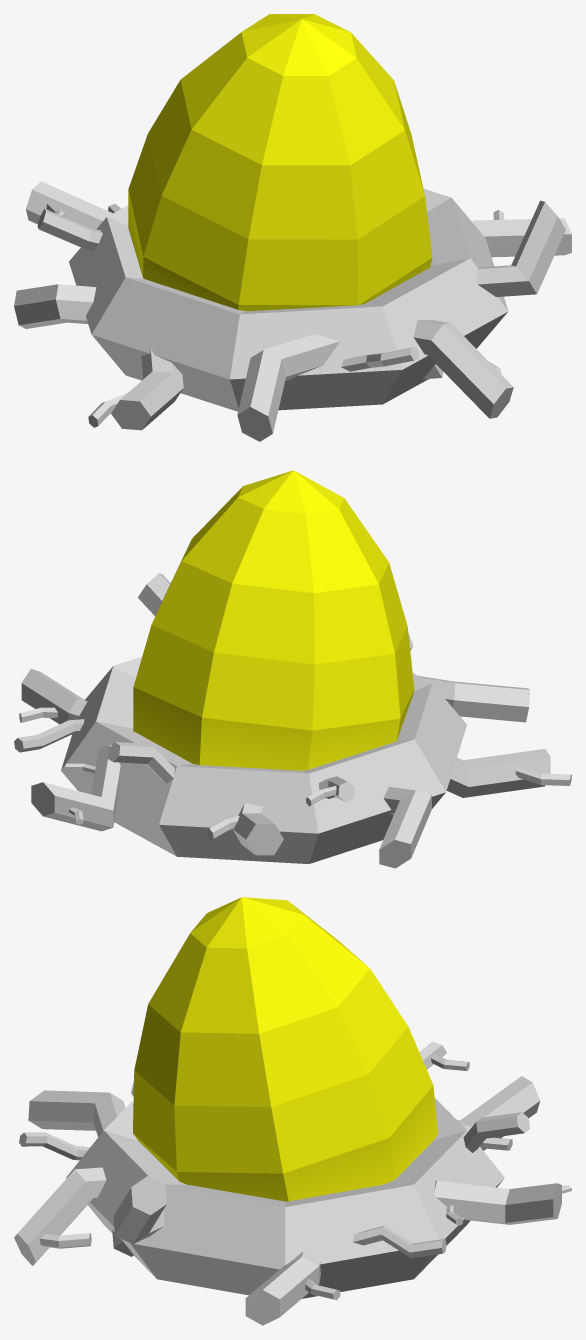
The model's file is Idole_Simple.FBX.
3 renders of one model, top to bottom at view 1: azimuth 30°, elevation 25°; view 2: azimuth 150°, elevation 25°; view 3: azimuth 270°, elevation 25°, orthographic. The views are drawn at different scales.
Parts seen in each view (by area): view 1: Cylinder364, Torus030, Cylinder368, Cylinder369, Cylinder361, Cylinder352, Cylinder357, Cylinder365, Cylinder370, Cylinder356, Cylinder358; view 2: Cylinder364, Torus030, Cylinder354, Cylinder352, Cylinder368, Cylinder357, Cylinder370, Cylinder365, Cylinder351, Cylinder360, Cylinder361, Cylinder362 (+1 smaller); view 3: Cylinder364, Torus030, Cylinder354, Cylinder369, Cylinder368, Cylinder370, Cylinder361, Cylinder365, Cylinder351, Cylinder360, Cylinder358, Cylinder366.
Part boxes in pixels (x1=…): Cylinder364: x1=128, y1=14, x2=432, y2=311; Torus030: x1=69, y1=189, x2=508, y2=411; Cylinder368: x1=237, y1=334, x2=339, y2=441; Cylinder369: x1=413, y1=320, x2=513, y2=418; Cylinder361: x1=423, y1=200, x2=565, y2=379; Cylinder352: x1=111, y1=349, x2=183, y2=430; Cylinder357: x1=14, y1=284, x2=96, y2=328; Cylinder365: x1=26, y1=181, x2=112, y2=229; Cylinder370: x1=471, y1=218, x2=571, y2=257; Cylinder356: x1=37, y1=209, x2=102, y2=250; Cylinder358: x1=341, y1=347, x2=419, y2=371; Cylinder364: x1=133, y1=470, x2=414, y2=770; Torus030: x1=61, y1=656, x2=466, y2=863; Cylinder354: x1=31, y1=745, x2=120, y2=831; Cylinder352: x1=446, y1=749, x2=550, y2=797; Cylinder368: x1=419, y1=676, x2=530, y2=722; Cylinder357: x1=379, y1=786, x2=431, y2=868; Cylinder370: x1=21, y1=669, x2=87, y2=724; Cylinder365: x1=232, y1=803, x2=283, y2=855; Cylinder351: x1=107, y1=742, x2=174, y2=783; Cylinder360: x1=14, y1=719, x2=84, y2=752; Cylinder361: x1=138, y1=573, x2=170, y2=615; Cylinder362: x1=515, y1=765, x2=571, y2=785; Cylinder364: x1=133, y1=897, x2=437, y2=1201; Torus030: x1=66, y1=1097, x2=504, y2=1298; Cylinder354: x1=434, y1=1180, x2=561, y2=1224; Cylinder369: x1=14, y1=1167, x2=106, y2=1265; Cylinder368: x1=28, y1=1090, x2=125, y2=1136; Cylinder370: x1=245, y1=1251, x2=320, y2=1325; Cylinder361: x1=112, y1=1176, x2=166, y2=1256; Cylinder365: x1=457, y1=1076, x2=540, y2=1150; Cylinder351: x1=463, y1=1112, x2=529, y2=1152; Cylinder360: x1=353, y1=1225, x2=446, y2=1258; Cylinder358: x1=19, y1=1132, x2=90, y2=1160; Cylinder366: x1=40, y1=1233, x2=91, y2=1248.
Bounding box in the file's own units: 216 × 132 × 203.
